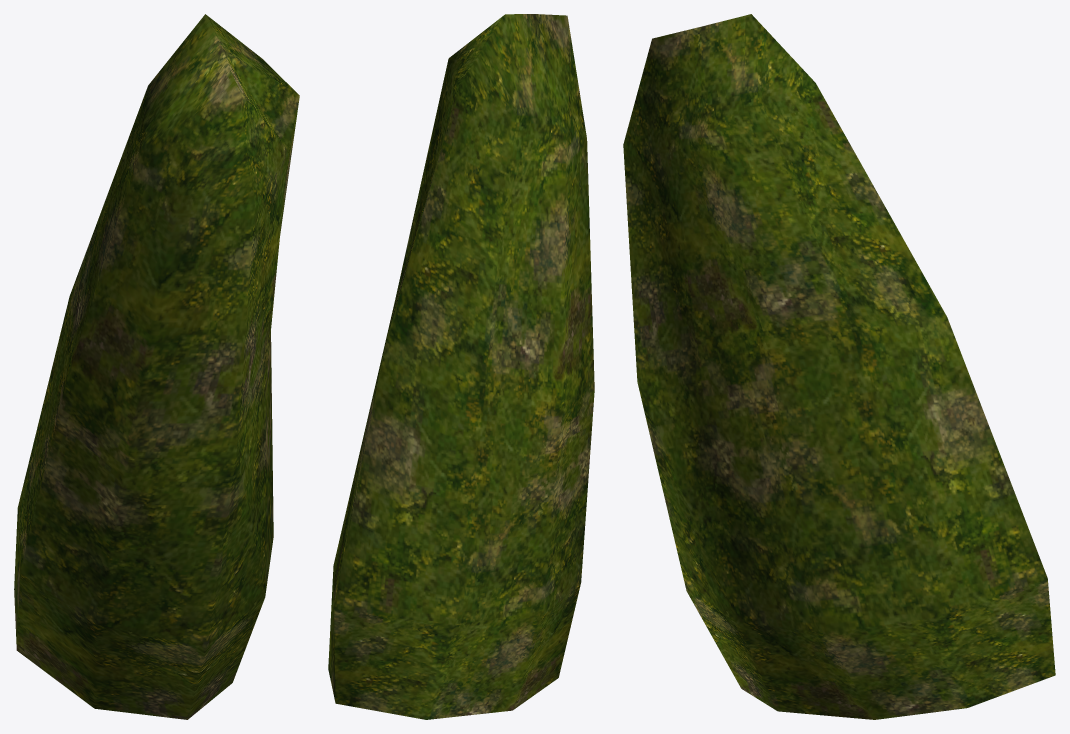
The model's file is OVERHILL_A_01_BR_ROCK205.fbx.
The picture shows the model from 3 angles, left to right: view 1: azimuth 30°, elevation 25°; view 2: azimuth 150°, elevation 25°; view 3: azimuth 270°, elevation 25°; orthographic projection. The views are drawn at different scales.
Parts seen in each view (by area): view 1: OVERHILL_A_01_BR_ROCK205; view 2: OVERHILL_A_01_BR_ROCK205; view 3: OVERHILL_A_01_BR_ROCK205.
Boxes of the visible parts, x1,y1,x2,y2 form: OVERHILL_A_01_BR_ROCK205: [14, 14, 299, 719]; OVERHILL_A_01_BR_ROCK205: [328, 14, 594, 719]; OVERHILL_A_01_BR_ROCK205: [623, 14, 1055, 719].
Size of the model in its own units: 21109 by 63774 by 36441.
1 material, 1 textured.
